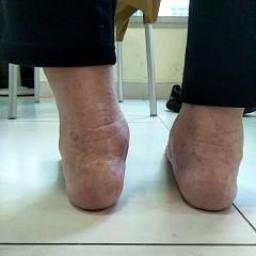Back View -Both Feet-: (42, 94, 252, 224)
